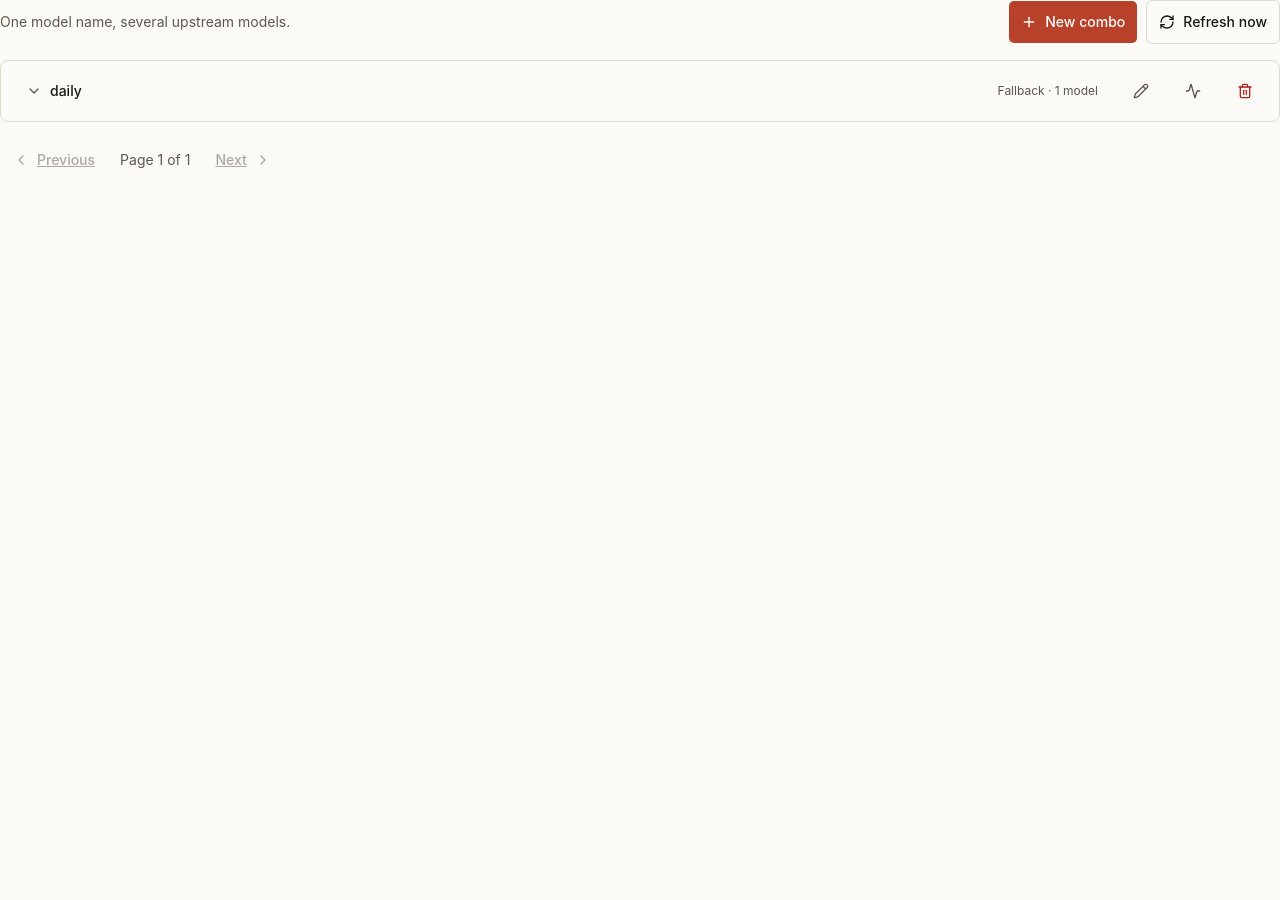
opening the test › names the combo and its strategy in the question
This screenshot has width=1280, height=900.
What coordinates should you click on to do the following:
click the button named "Test"
I would click on:
 (1193, 91)
Its box is [1171, 69, 1215, 113].
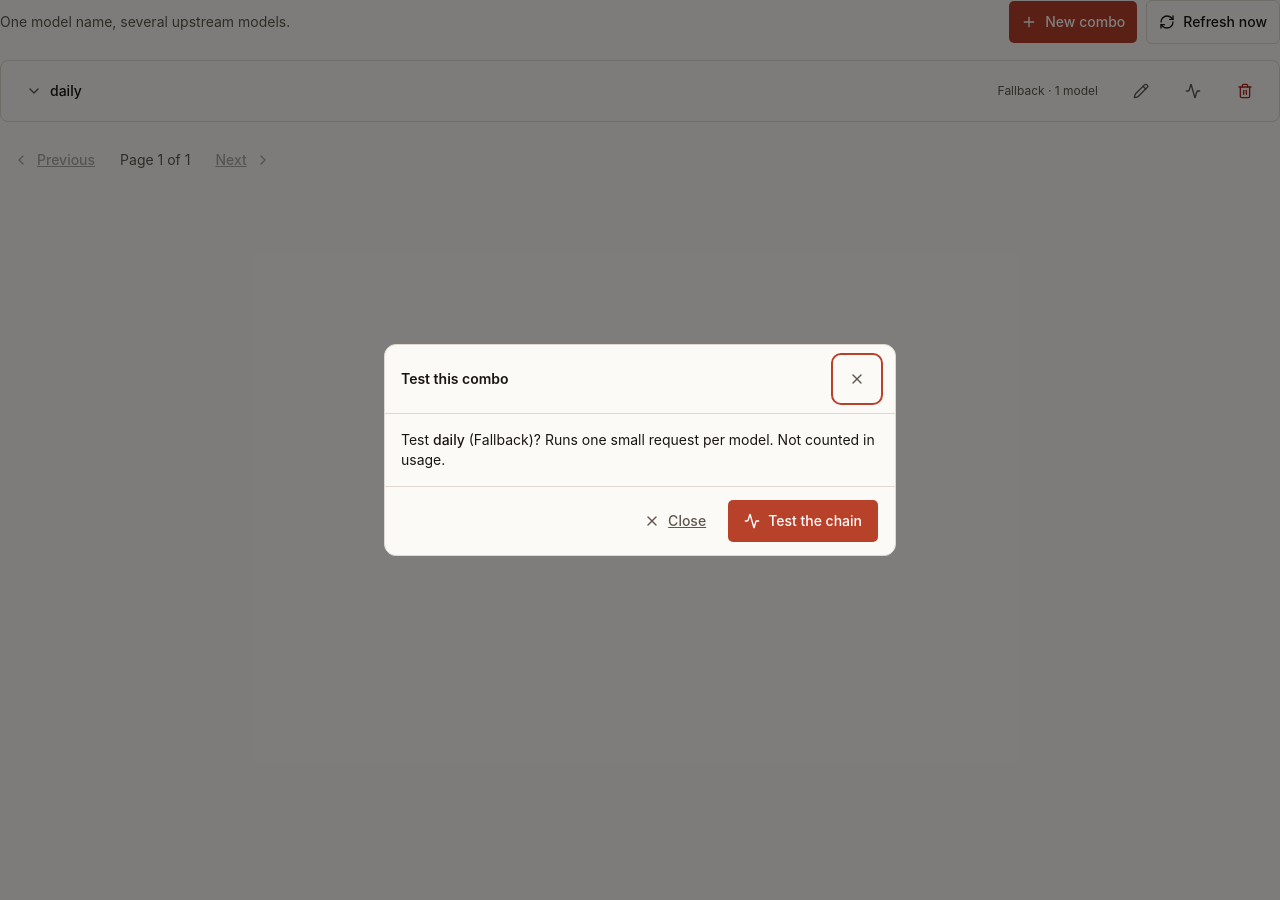
Check: the text "daily" is shown, box [433, 431, 465, 448]
Check: the text "Fallback" is shown, box [401, 431, 875, 468]
